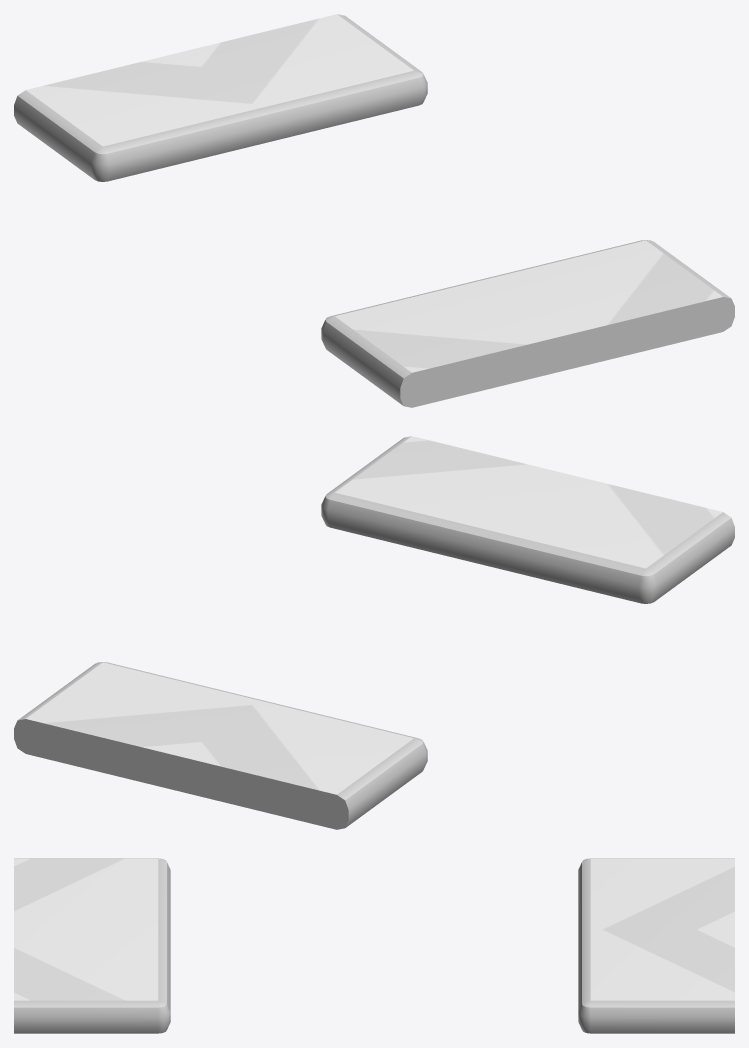
File: floor_hole.fbx
3 renders of one model, top to bottom at view 1: azimuth 30°, elevation 25°; view 2: azimuth 150°, elevation 25°; view 3: azimuth 270°, elevation 25°, orthographic. The views are drawn at different scales.
Parts seen in each view (by area): view 1: floor_hole; view 2: floor_hole; view 3: floor_hole.
Part boxes in pixels (x1,y1,x2,y2): floor_hole: (14,14,734,407); floor_hole: (14,436,734,829); floor_hole: (14,858,734,1033).
Size of the model in its own units: 500 by 50 by 1000.
Materials: 2 (1 with a texture image).
